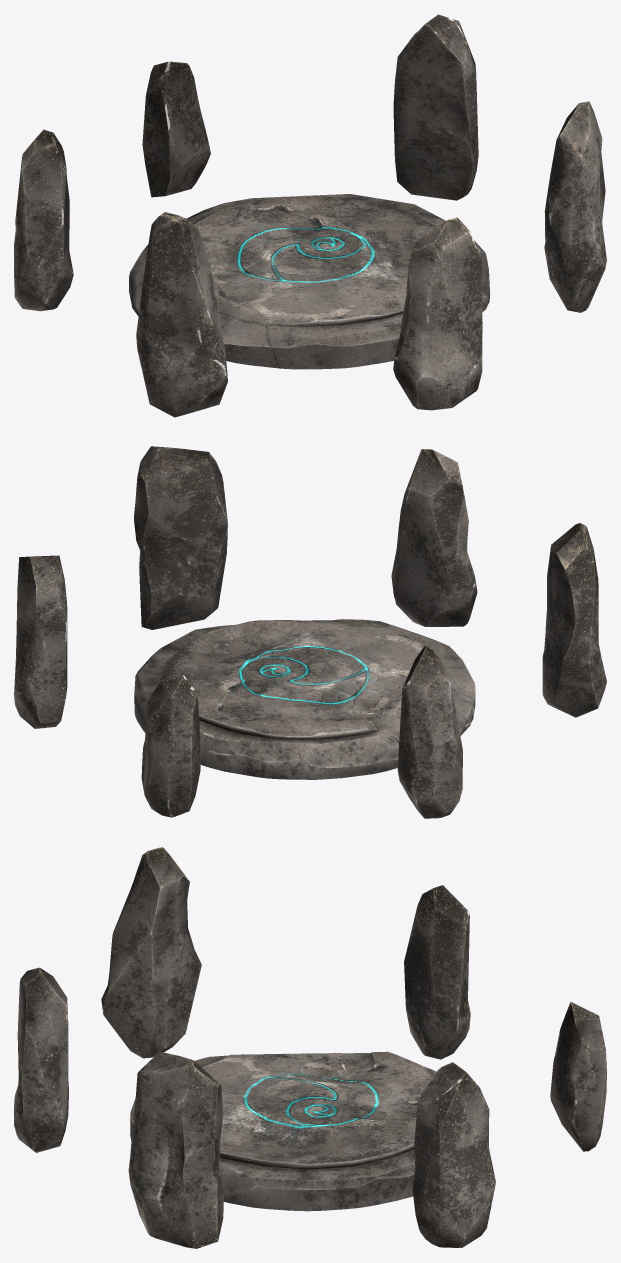
Rendered from portal.glb.
The picture shows the model from 3 angles, top to bottom: view 1: azimuth 30°, elevation 25°; view 2: azimuth 150°, elevation 25°; view 3: azimuth 270°, elevation 25°; orthographic projection. The views are drawn at different scales.
Visible parts, largest first — view 1: portalbase, portalmonolith_5, portalmonolith_4, portalmonolith_2, portalmonolith_3, portalmonolith_6, portalmonolith; view 2: portalbase, portalmonolith_3, portalmonolith_4, portalmonolith_5, portalmonolith_6, portalmonolith_2, portalmonolith; view 3: portalbase, portalmonolith_3, portalmonolith_5, portalmonolith_2, portalmonolith_6, portalmonolith_4, portalmonolith.
Boxes of the visible parts, bbox=[...] form: portalbase: bbox=[129, 194, 490, 369]; portalmonolith_5: bbox=[136, 212, 227, 417]; portalmonolith_4: bbox=[393, 217, 482, 410]; portalmonolith_2: bbox=[393, 14, 478, 200]; portalmonolith_3: bbox=[544, 101, 606, 312]; portalmonolith_6: bbox=[14, 129, 73, 311]; portalmonolith: bbox=[142, 61, 210, 197]; portalbase: bbox=[134, 619, 475, 779]; portalmonolith_3: bbox=[134, 446, 227, 629]; portalmonolith_4: bbox=[391, 449, 477, 626]; portalmonolith_5: bbox=[542, 523, 606, 717]; portalmonolith_6: bbox=[397, 645, 462, 818]; portalmonolith_2: bbox=[14, 555, 67, 728]; portalmonolith: bbox=[141, 675, 200, 817]; portalbase: bbox=[130, 1051, 436, 1211]; portalmonolith_3: bbox=[128, 1051, 223, 1248]; portalmonolith_5: bbox=[101, 847, 201, 1058]; portalmonolith_2: bbox=[412, 1062, 495, 1247]; portalmonolith_6: bbox=[404, 885, 470, 1059]; portalmonolith_4: bbox=[14, 967, 68, 1152]; portalmonolith: bbox=[550, 1001, 606, 1151].
Bounding box in the file's own units: 2280 × 935 × 2534.
Materials: 1 (1 with a texture image).
